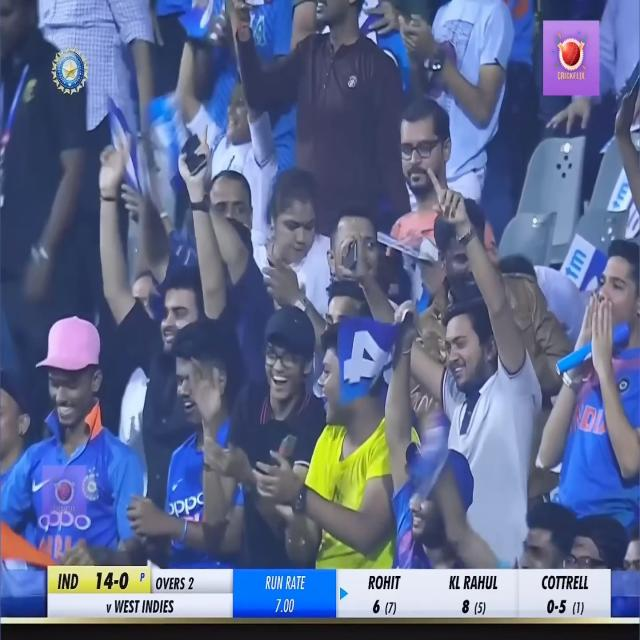partially_visible: (560, 224, 595, 305), (611, 165, 637, 223)
